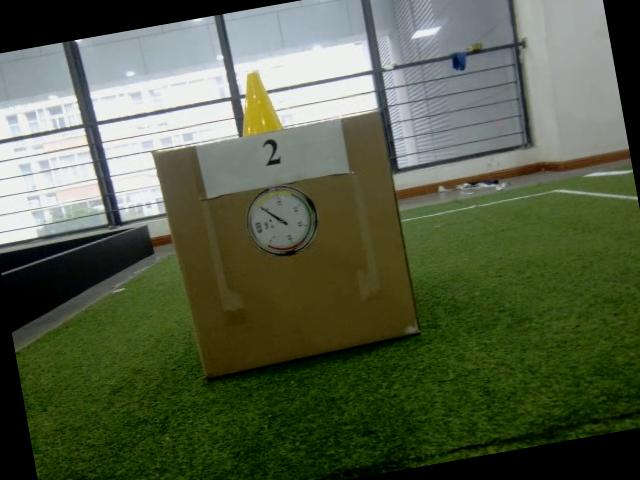2: (258, 134, 284, 168)
Dashboard: (241, 180, 324, 262)
ssi: (253, 219, 264, 235)
yellow_barrel: (232, 68, 284, 138)
